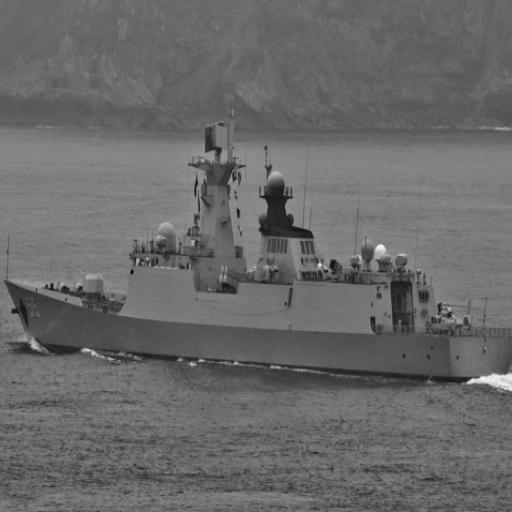Fragata: (5, 105, 512, 382)
